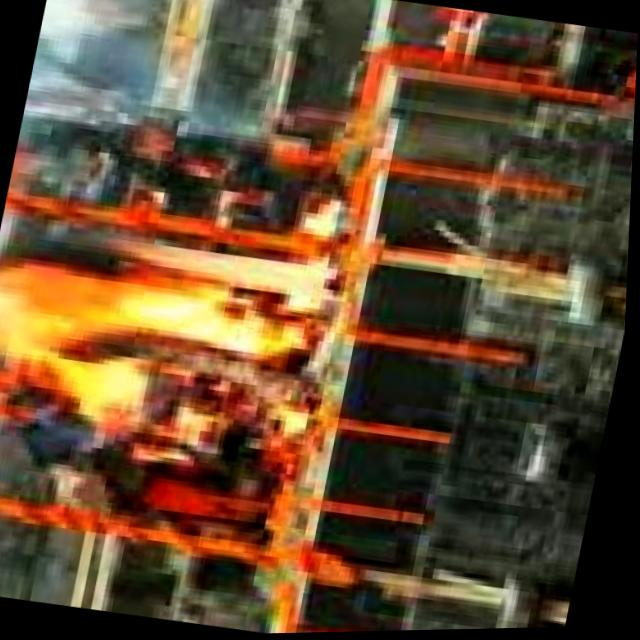fire: (0, 197, 360, 466)
